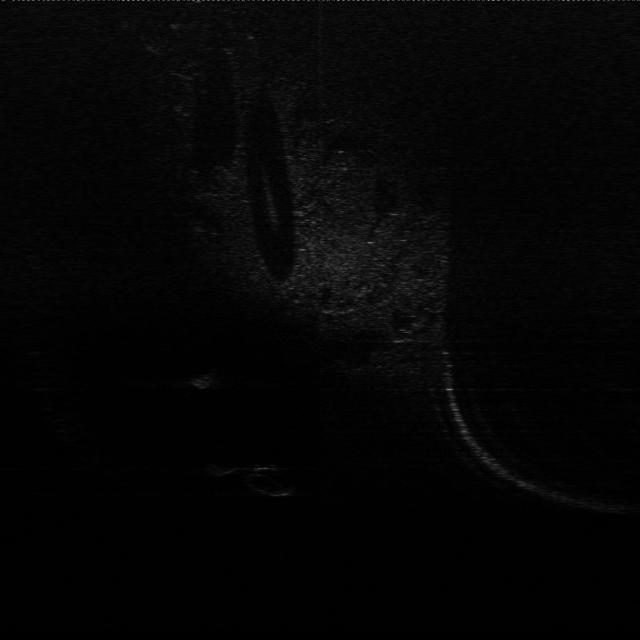cube: (203, 454, 238, 479)
square cage: (180, 361, 220, 391)
tyre: (248, 460, 301, 498)
